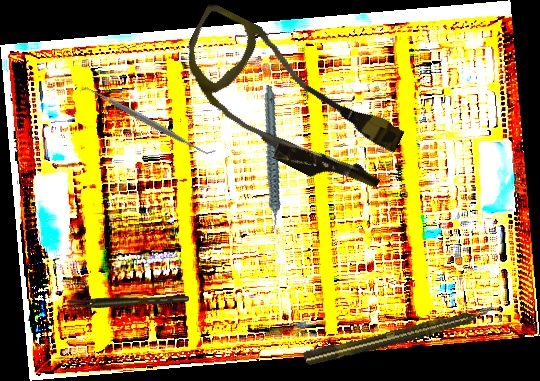Cannula: (159, 1, 418, 206)
Handpiece: (302, 303, 496, 368), (237, 84, 303, 234)
Spatula Surgical: (79, 78, 217, 164)
Tissue Forceps: (67, 296, 189, 308)
